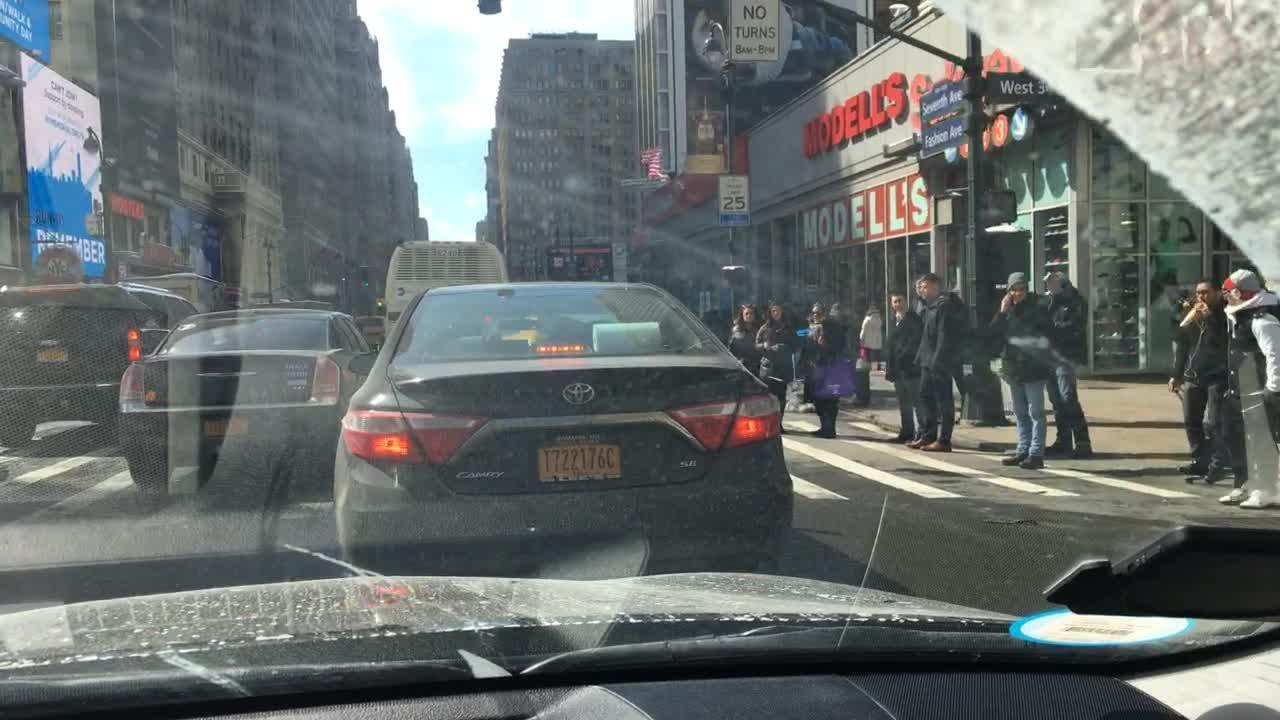Chrysler: (193, 365, 261, 384)
Toyota: (557, 378, 598, 412)
chevrolet: (37, 337, 65, 350)
